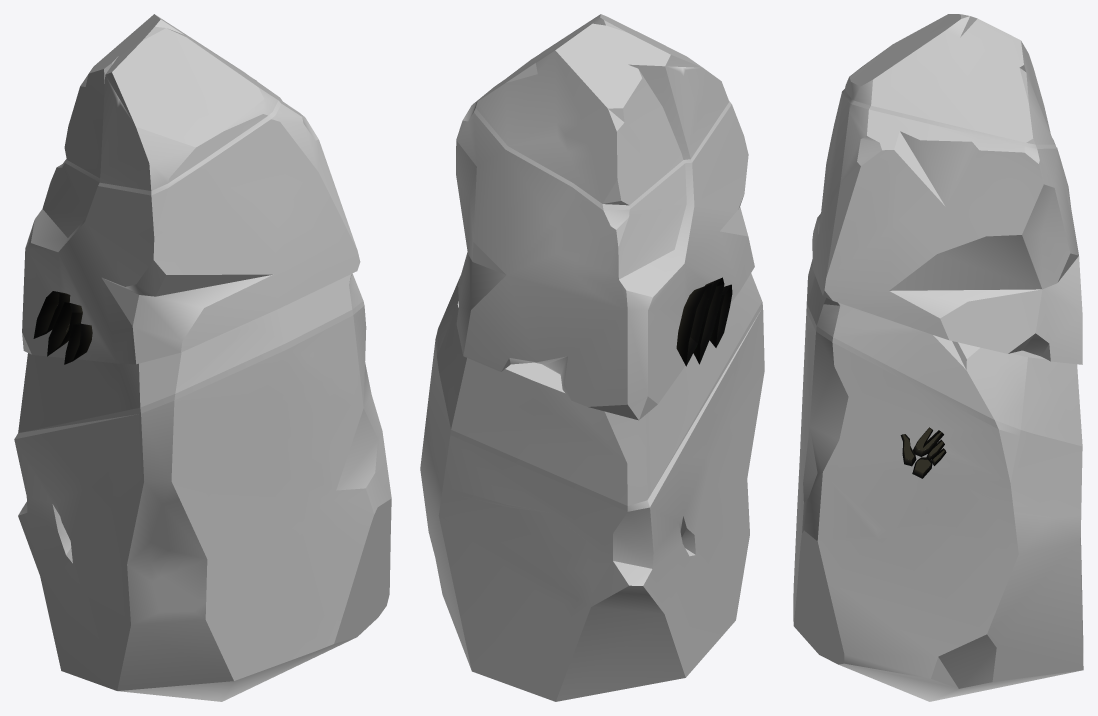
The model's file is TFF_Rock_Medium_07A.fbx.
The picture shows the model from 3 angles, left to right: view 1: azimuth 30°, elevation 25°; view 2: azimuth 150°, elevation 25°; view 3: azimuth 270°, elevation 25°; orthographic projection.
Visible parts, largest first — view 1: TFF_Rock_Medium_07A, TFF_Rock_Medium_07A_Lights; view 2: TFF_Rock_Medium_07A, TFF_Rock_Medium_07A_Lights; view 3: TFF_Rock_Medium_07A, TFF_Rock_Medium_07A_Lights.
Boxes of the visible parts, x1,y1,x2,y2 form: TFF_Rock_Medium_07A: [14, 14, 391, 701]; TFF_Rock_Medium_07A_Lights: [33, 291, 92, 364]; TFF_Rock_Medium_07A: [420, 14, 764, 701]; TFF_Rock_Medium_07A_Lights: [676, 277, 732, 366]; TFF_Rock_Medium_07A: [793, 14, 1083, 701]; TFF_Rock_Medium_07A_Lights: [900, 427, 946, 478].
Size of the model in its own units: 2.18 by 5.11 by 2.02.
